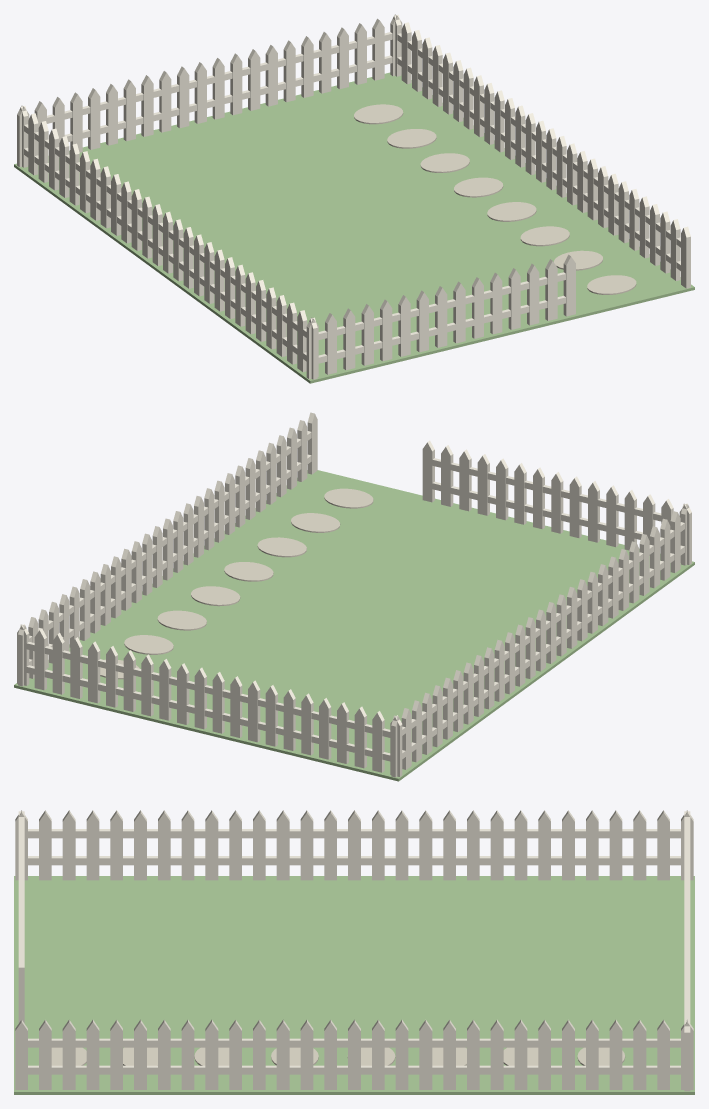
Rendered from sun-courtyard.glb.
The picture shows the model from 3 angles, top to bottom: view 1: azimuth 30°, elevation 25°; view 2: azimuth 150°, elevation 25°; view 3: azimuth 270°, elevation 25°; orthographic projection. The views are drawn at different scales.
Parts seen in each view (by area): view 1: soft garden lawn, fence rail, garden stepping stone; view 2: soft garden lawn, fence rail, garden stepping stone; view 3: soft garden lawn, fence rail, garden stepping stone.
Boxes of the visible parts, <box> form: soft garden lawn: <box>14,72,694,383</box>; fence rail: <box>17,14,690,379</box>; garden stepping stone: <box>354,104,636,294</box>; soft garden lawn: <box>14,470,694,781</box>; fence rail: <box>17,412,691,777</box>; garden stepping stone: <box>100,488,373,679</box>; soft garden lawn: <box>14,876,694,1094</box>; fence rail: <box>15,810,693,1091</box>; garden stepping stone: <box>51,1047,625,1065</box>.
Size of the model in its own units: 6 by 0.92 by 8.
